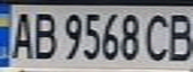5: (78, 9, 103, 61)
6: (100, 10, 124, 62)
8: (118, 10, 145, 62)
9: (57, 9, 84, 61)
A: (6, 8, 36, 61)
B: (163, 9, 193, 63), (30, 8, 60, 61)
C: (142, 10, 172, 63)
